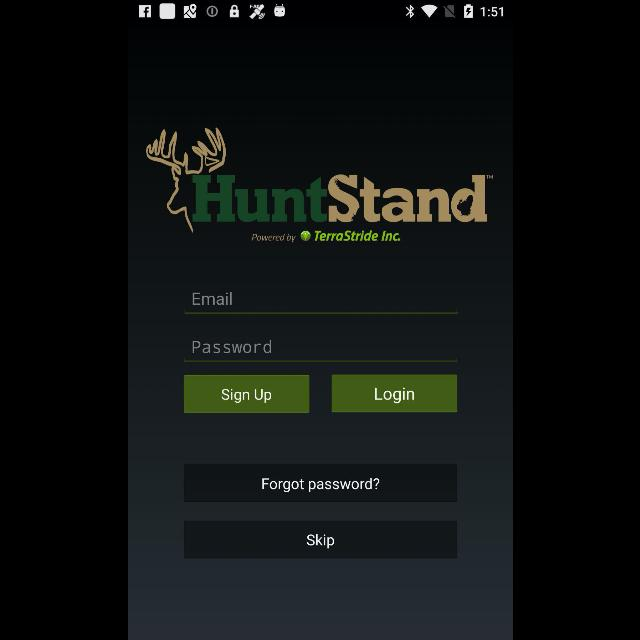image: (145, 128, 493, 242)
input: (182, 292, 458, 314), (183, 340, 457, 362)
text: (192, 341, 270, 354), (191, 292, 231, 306)
textbutton: (184, 464, 456, 502), (184, 521, 456, 559), (183, 375, 309, 413), (331, 375, 457, 413)
uppertaskbar: (128, 1, 512, 23)
